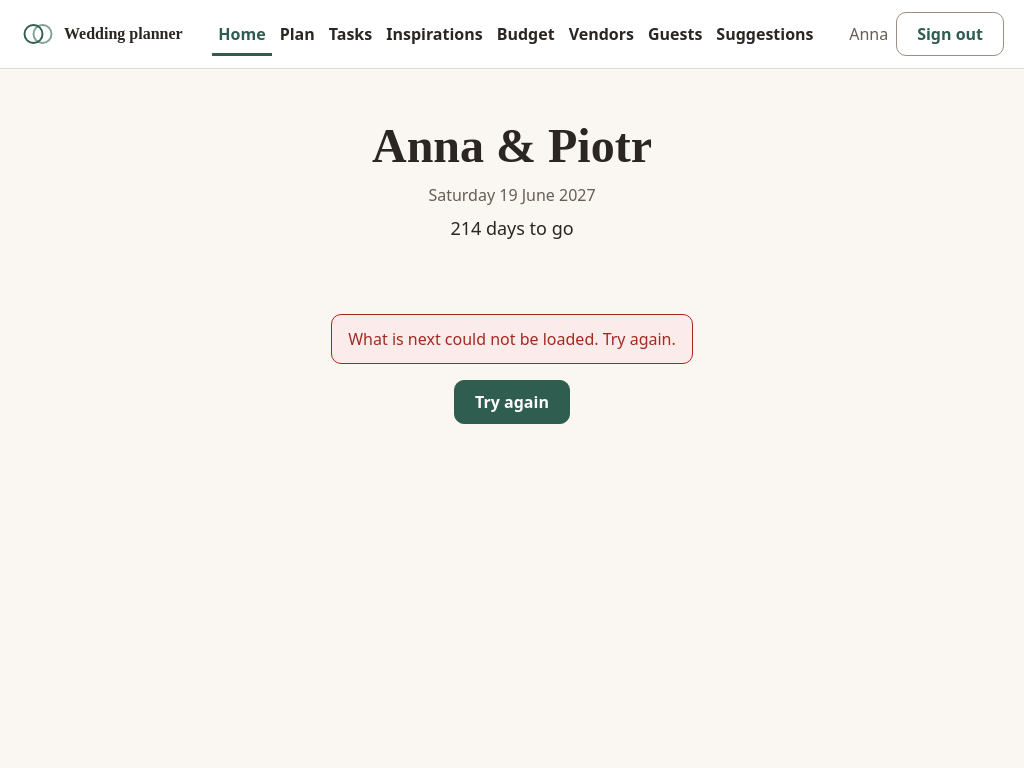
Test case: the board of inspirations › is one of the pages in the top bar
Click the link "Inspirations". click: [434, 34]
box: [386,23,483,45]
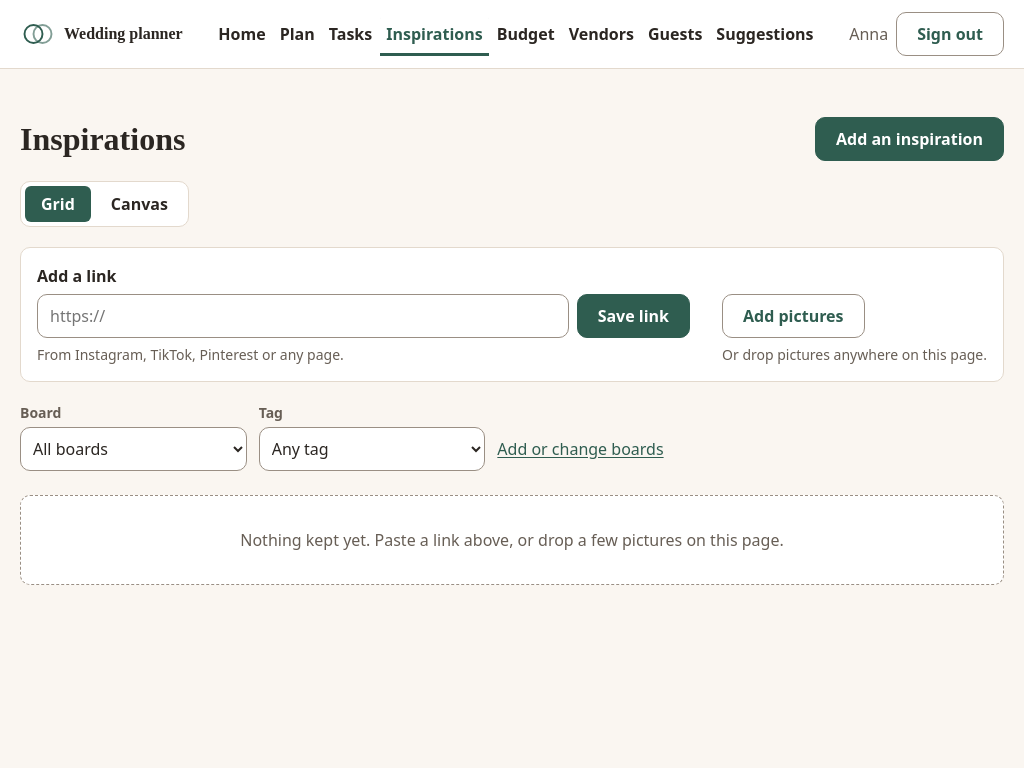
Check: the heading "Inspirations" is shown, box [20,120,185,158]
